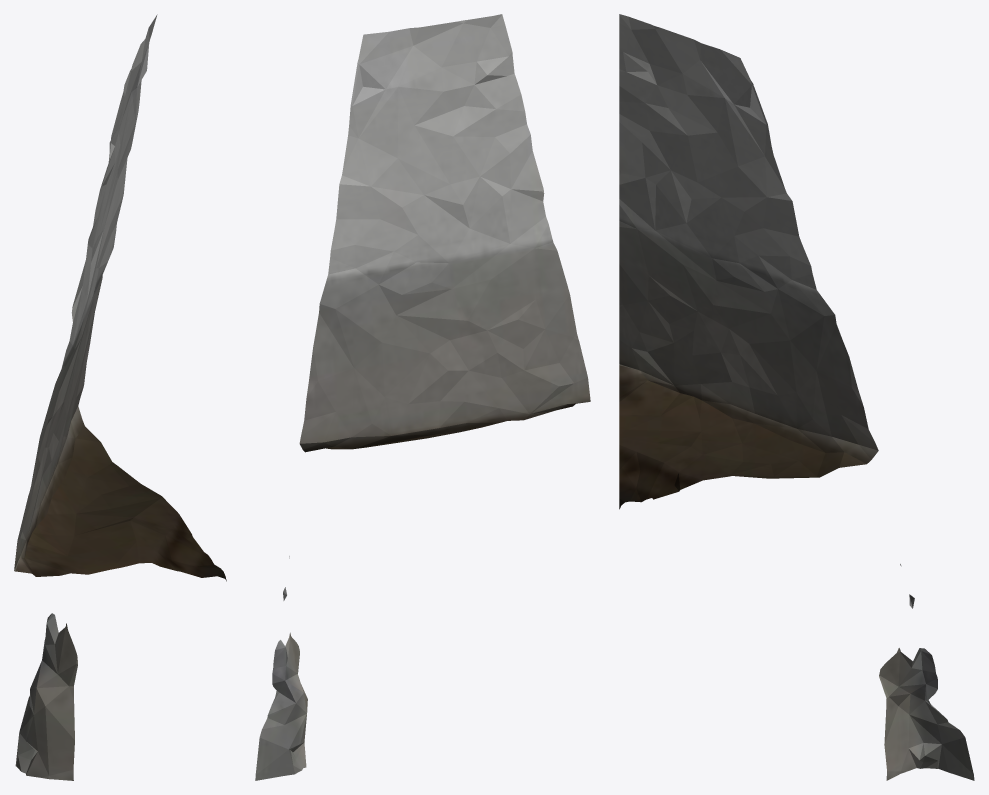
3 views of the same model, side by side, from view 1: azimuth 30°, elevation 25°; view 2: azimuth 150°, elevation 25°; view 3: azimuth 270°, elevation 25° (orthographic). The views are drawn at different scales.
Bounding box in the file's own units: 0.2251 × 0.8374 × 0.3728.
1 material, 1 textured.
